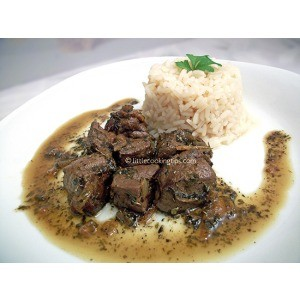liver_brain food: (63, 121, 210, 230)
